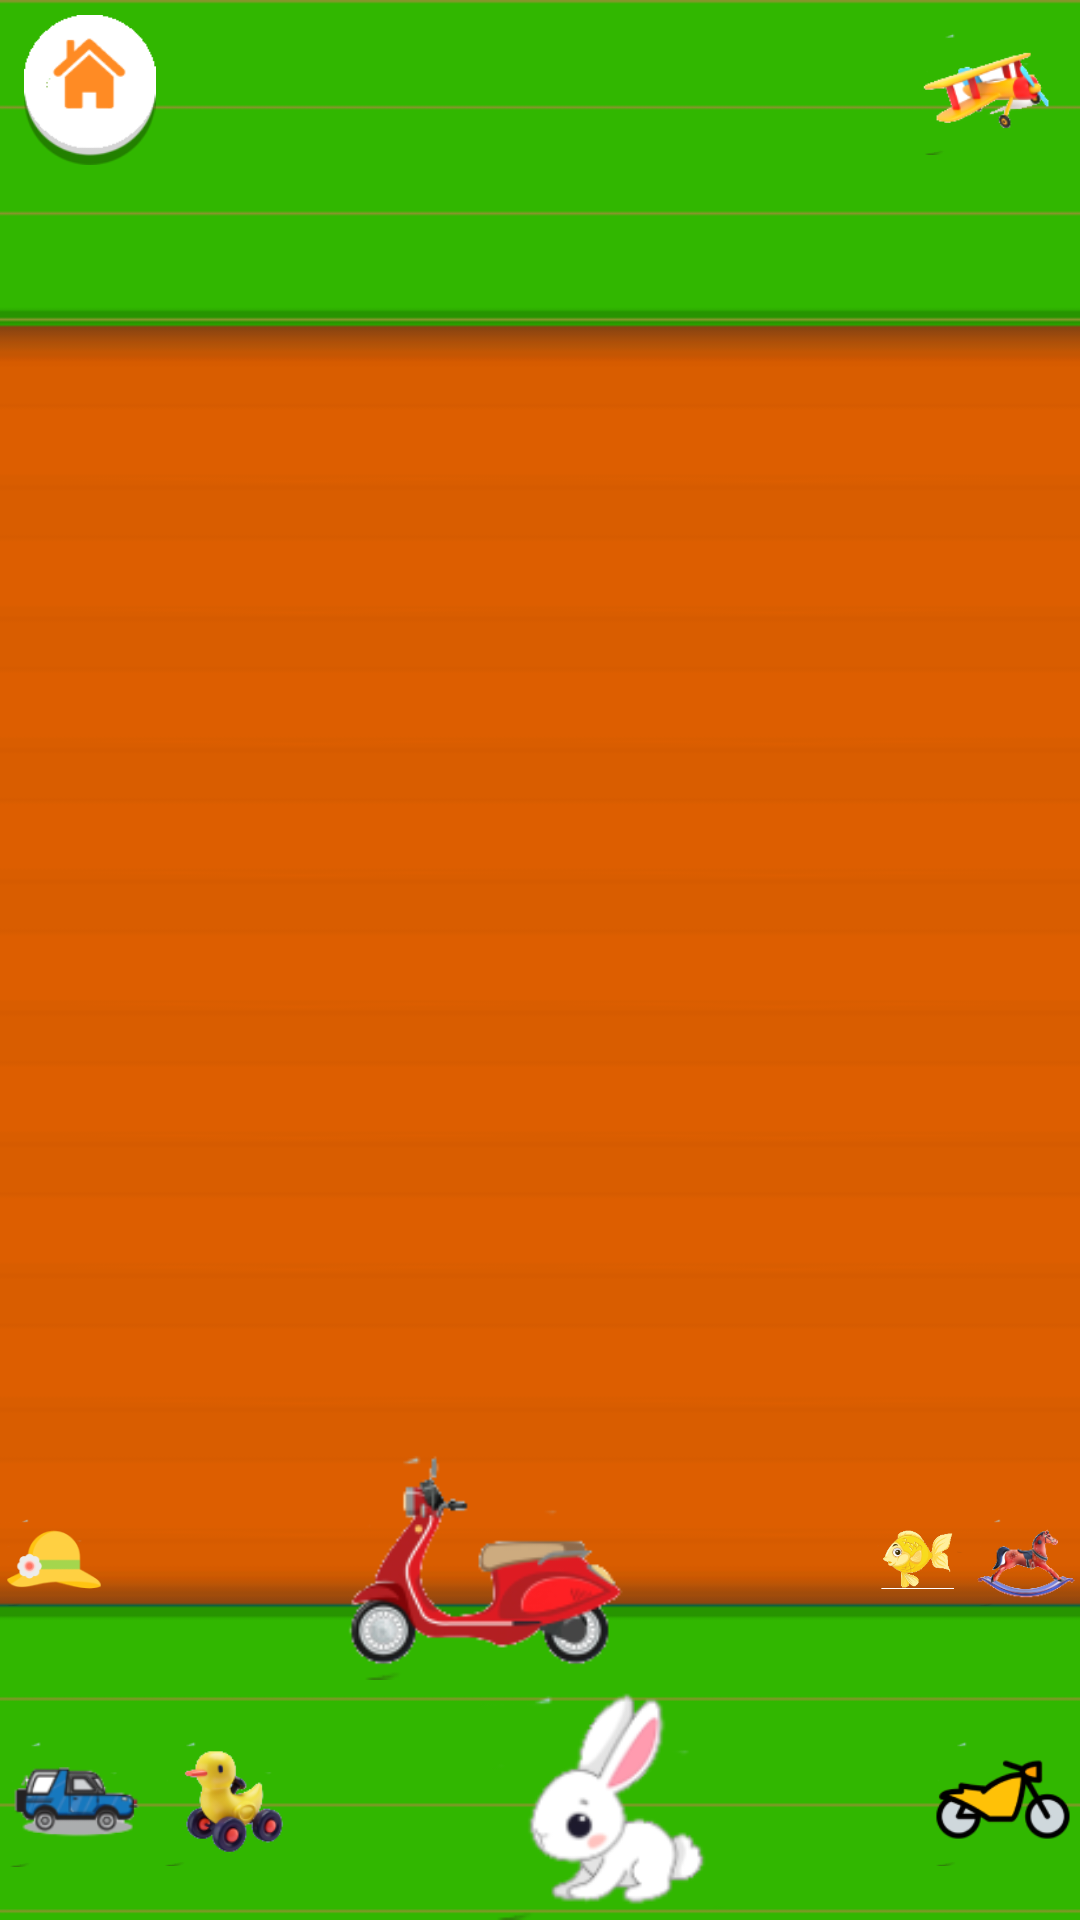

Icons on this 1080px x 1920px Android screen, each with the point to tap as (x,y):
home: (90,90)
toy plane: (990,94)
